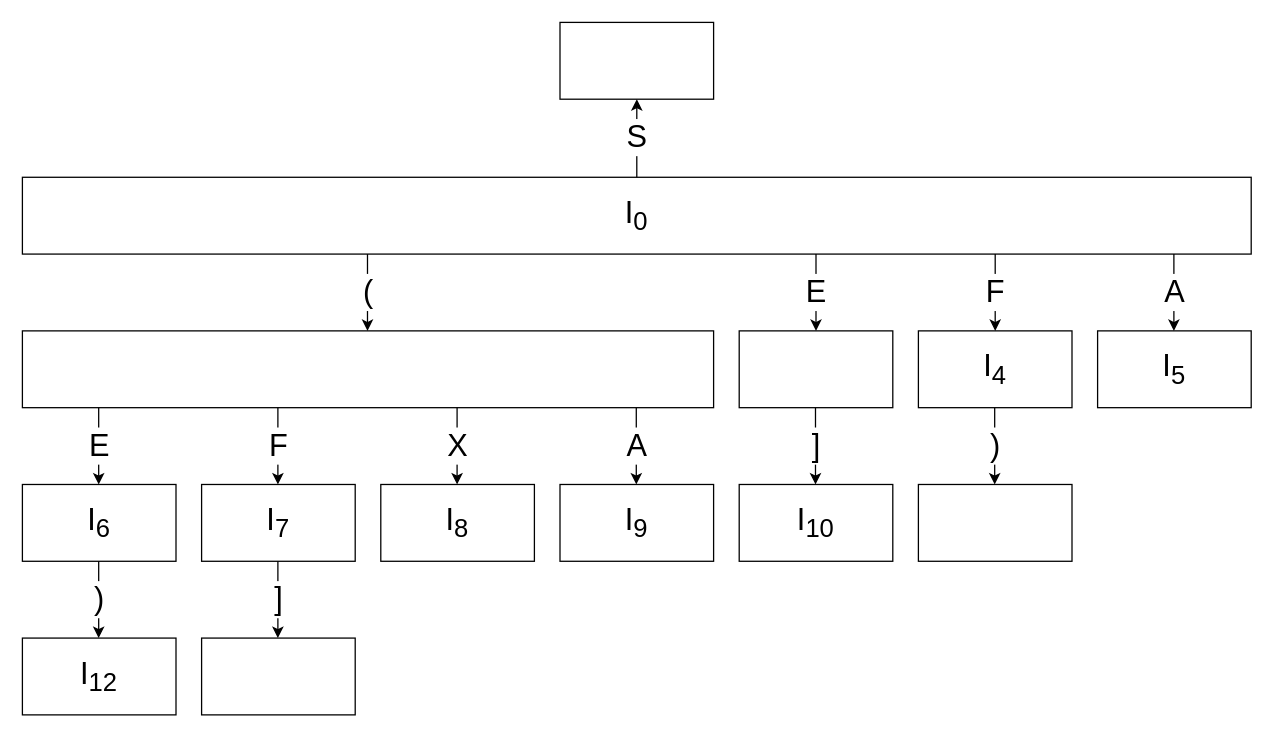
The diagram is 1274 pixels wide and 737 high, and some of its shapes have lost their labels. The centre of each missing label's shape, as x and y in pixels:
"I 1" belongs at (x=636, y=60).
"I 11" belongs at (x=994, y=522).
"I 13" belongs at (x=277, y=676).
"I 2" belongs at (x=367, y=369).
"I 3" belongs at (x=815, y=369).
